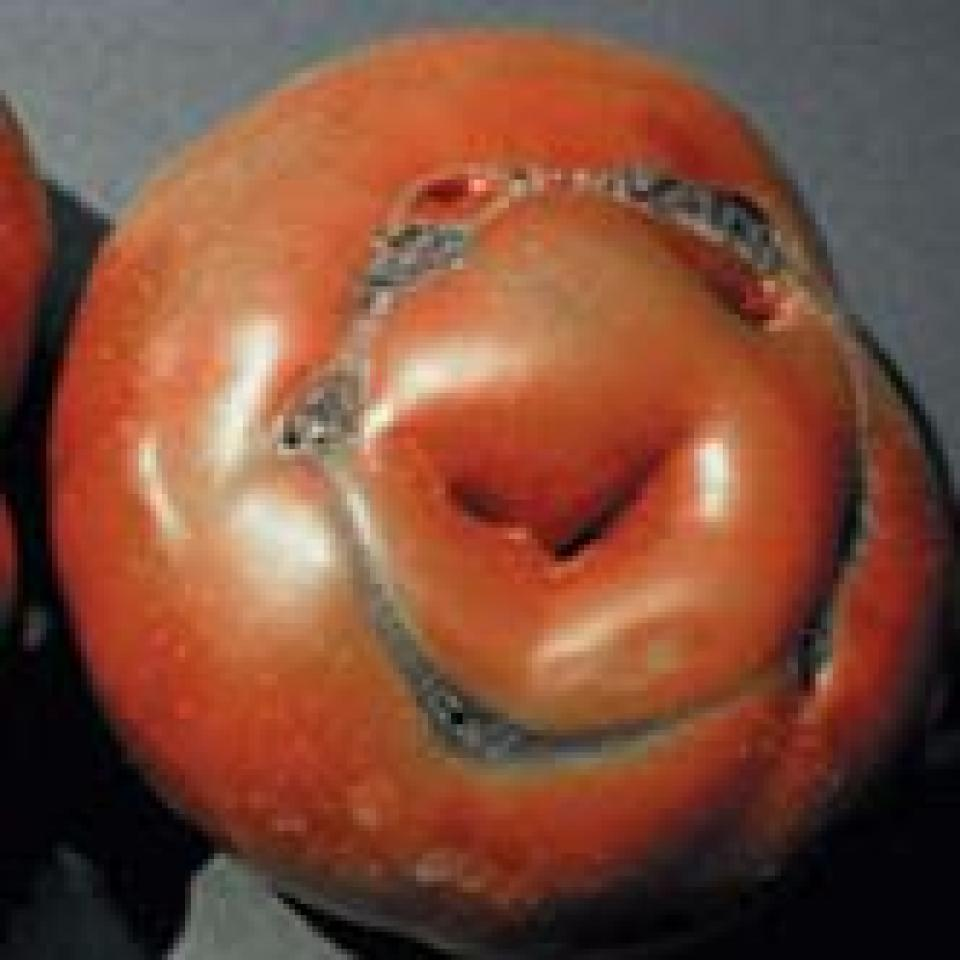Cracking: (248, 129, 898, 770), (248, 341, 828, 768), (312, 134, 834, 370)
